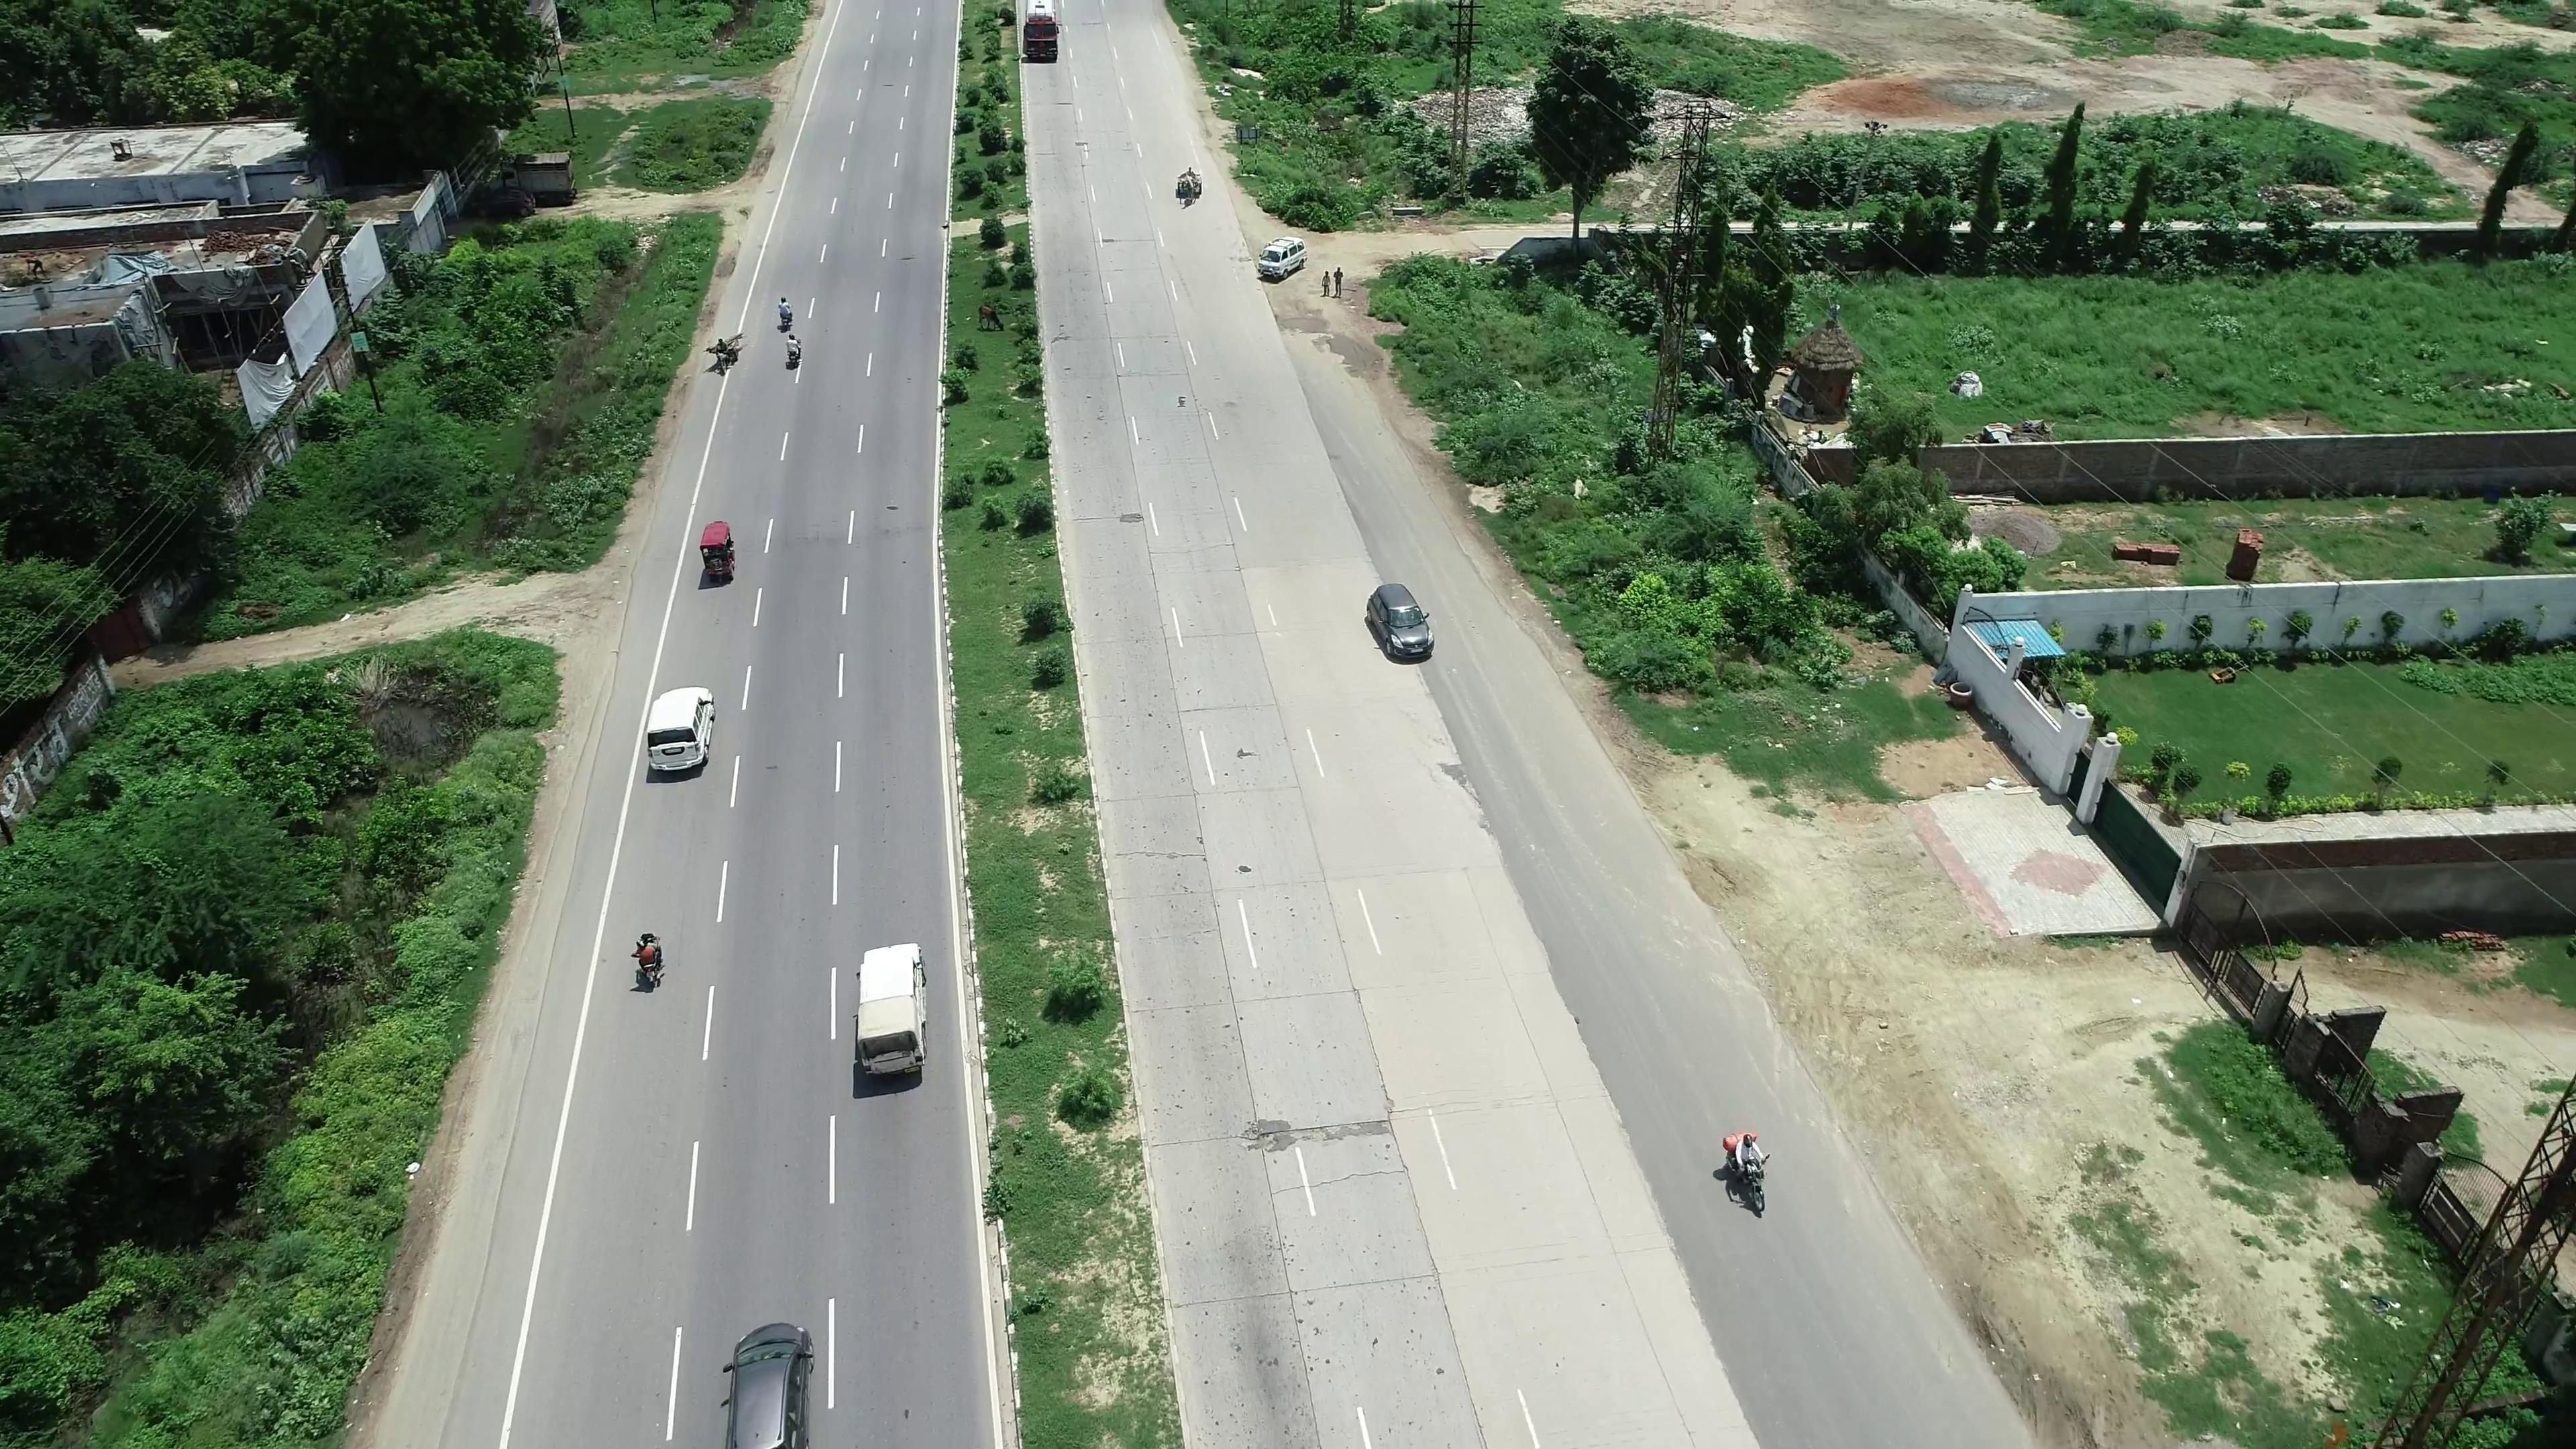Potholes: (1249, 1120, 1387, 1154)
